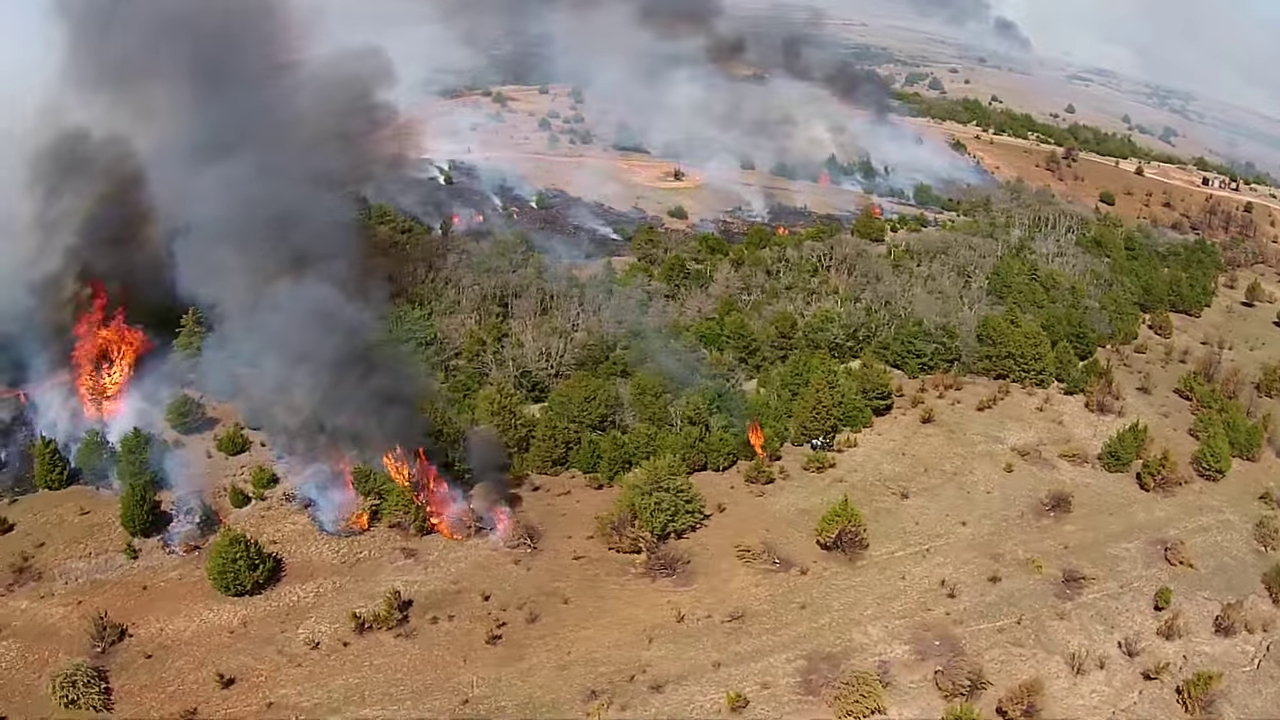forest_fire: (71, 283, 151, 418), (370, 446, 474, 538), (747, 420, 768, 460), (342, 506, 375, 531)
